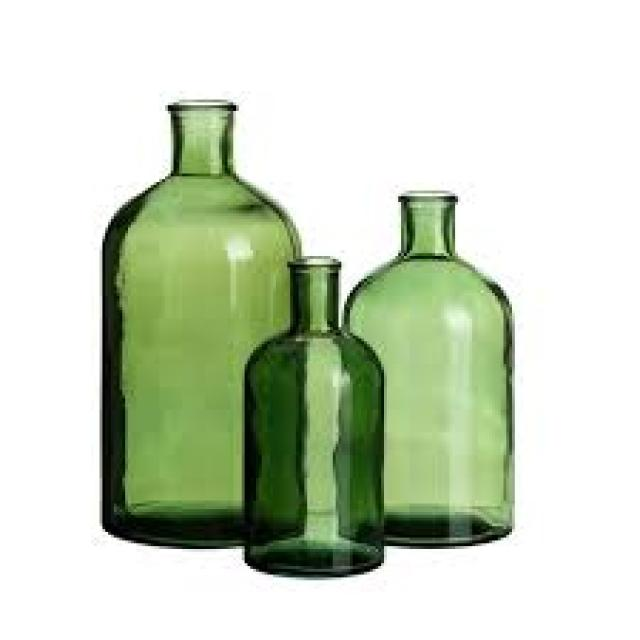glass: (100, 100, 299, 546), (341, 191, 515, 546), (245, 256, 384, 575)
